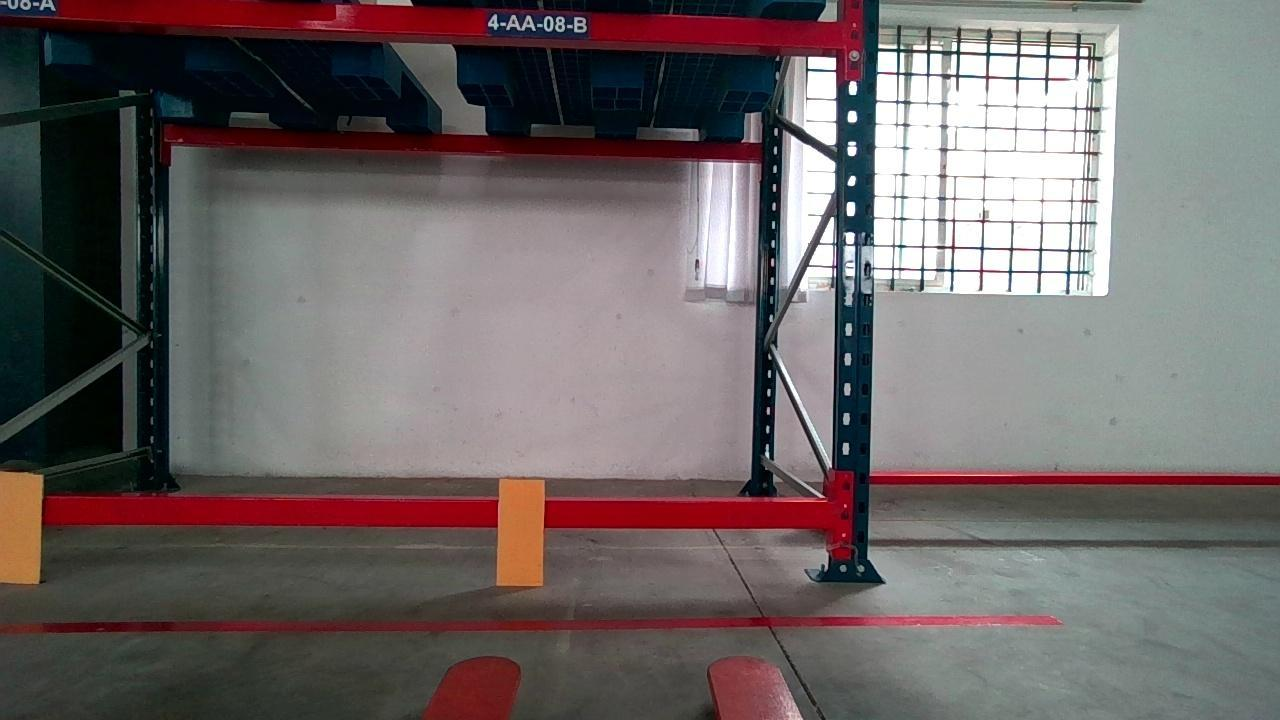h_rack: (2, 0, 843, 49), (43, 497, 829, 526)
orange_strip: (493, 472, 545, 585), (1, 473, 45, 581)
red_line: (3, 612, 1059, 632)
